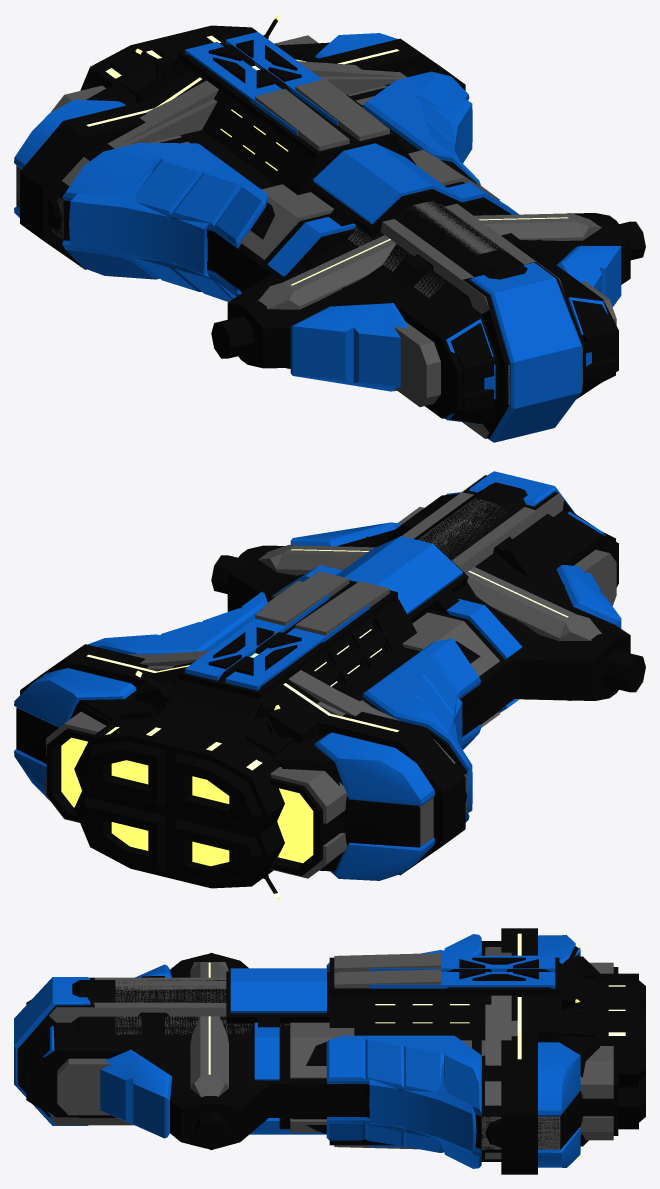
The model's file is 01_ship_heavy_katalosteer.glb.
3 renders of one model, top to bottom at view 1: azimuth 30°, elevation 25°; view 2: azimuth 150°, elevation 25°; view 3: azimuth 270°, elevation 25°, orthographic. The views are drawn at different scales.
Visible parts, largest first — view 1: old_01_ship_heavy_catalosteer_mk5, 01_ship_heavy_catalosteer; view 2: old_01_ship_heavy_catalosteer_mk5, 01_ship_heavy_catalosteer; view 3: old_01_ship_heavy_catalosteer_mk5, 01_ship_heavy_catalosteer.
Boxes of the visible parts, x1,y1,x2,y2 form: old_01_ship_heavy_catalosteer_mk5: [14, 14, 645, 442]; 01_ship_heavy_catalosteer: [16, 35, 616, 438]; old_01_ship_heavy_catalosteer_mk5: [14, 471, 645, 899]; 01_ship_heavy_catalosteer: [16, 475, 616, 878]; old_01_ship_heavy_catalosteer_mk5: [14, 934, 645, 1168]; 01_ship_heavy_catalosteer: [29, 928, 618, 1174].
Bounding box in the file's own units: 0.6546 × 0.2997 × 1.02.
